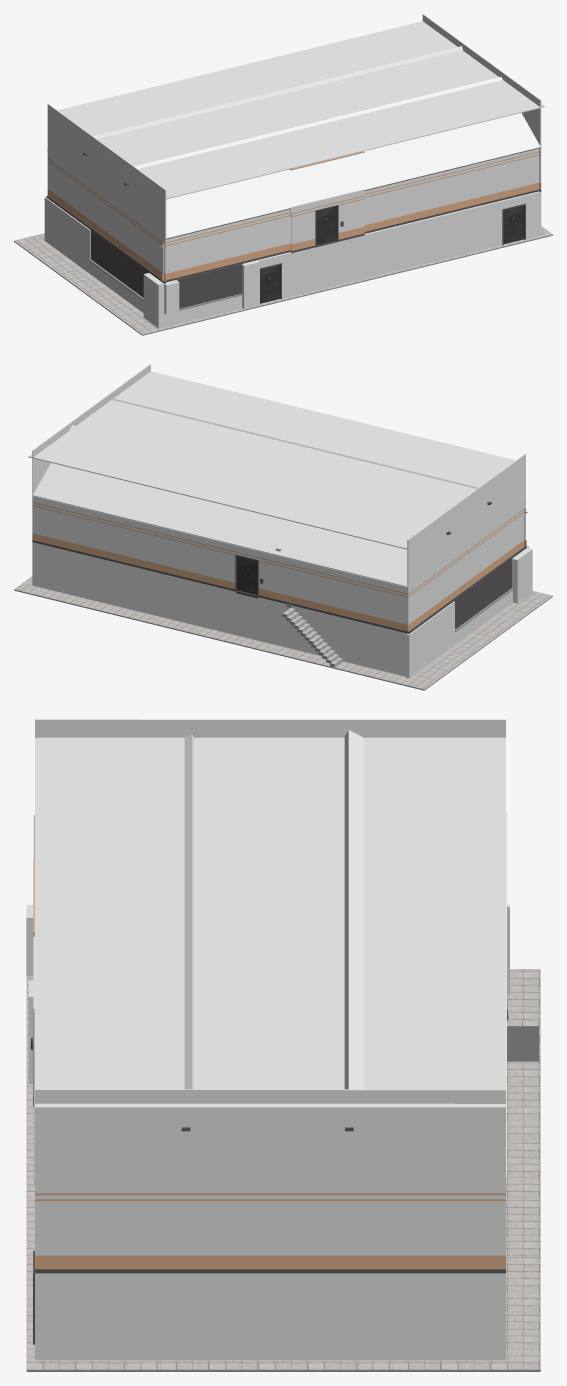
The model's file is scp_cafeteria.glb.
3 views of the same model, one above another, from view 1: azimuth 30°, elevation 25°; view 2: azimuth 150°, elevation 25°; view 3: azimuth 270°, elevation 25° (orthographic). The views are drawn at different scales.
Visible parts, largest first — view 1: Object_20, Object_18, Object_16, Object_15, Object_11, Object_17, Object_14; view 2: Object_20, Object_15, Object_18, Object_16, Object_14, Object_17, Object_11; view 3: Object_20, Object_15, Object_18, Object_14, Object_17.
Boxes of the visible parts, bbox=[...] form: Object_20: bbox=[44, 14, 544, 328]; Object_18: bbox=[47, 151, 541, 281]; Object_16: bbox=[91, 203, 525, 308]; Object_15: bbox=[14, 226, 552, 334]; Object_11: bbox=[260, 205, 524, 303]; Object_17: bbox=[46, 189, 541, 283]; Object_14: bbox=[14, 234, 552, 335]; Object_20: bbox=[28, 364, 532, 678]; Object_15: bbox=[14, 576, 552, 689]; Object_18: bbox=[32, 502, 527, 631]; Object_16: bbox=[235, 554, 511, 629]; Object_14: bbox=[14, 548, 552, 690]; Object_17: bbox=[32, 540, 526, 633]; Object_11: bbox=[237, 556, 257, 595]; Object_20: bbox=[26, 719, 509, 1360]; Object_15: bbox=[26, 969, 540, 1369]; Object_18: bbox=[33, 861, 505, 1269]; Object_14: bbox=[26, 1006, 540, 1371]; Object_17: bbox=[33, 1096, 505, 1273].
Bounding box in the file's own units: 88.2 × 29.1 × 47.83.
Materials: 20 (10 with a texture image).
